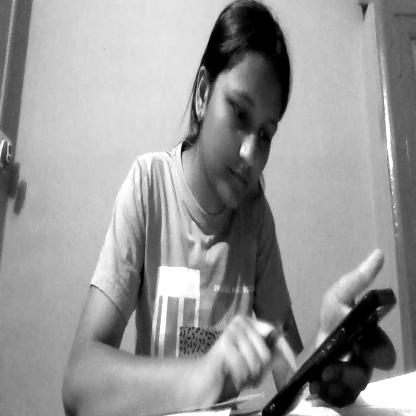Distracted: (203, 6, 288, 200)
